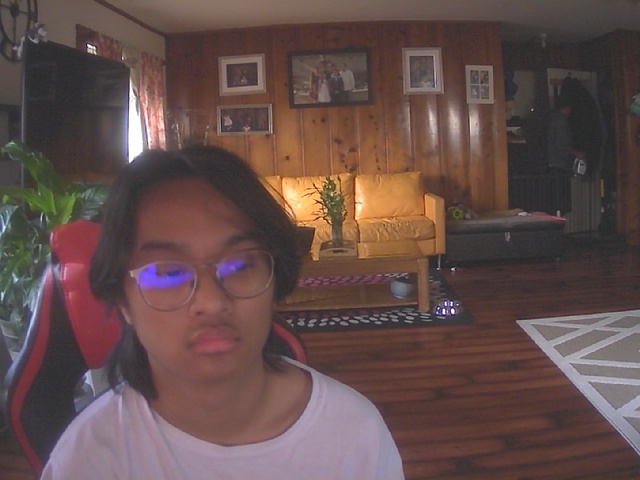neutral: (112, 153, 286, 388)
